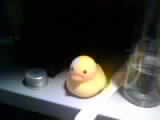duck: (58, 56, 108, 102)
